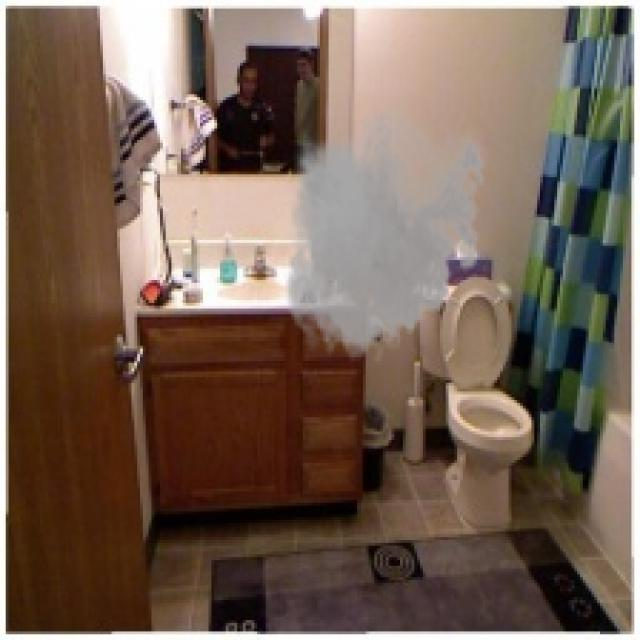smoke: (277, 94, 492, 369)
